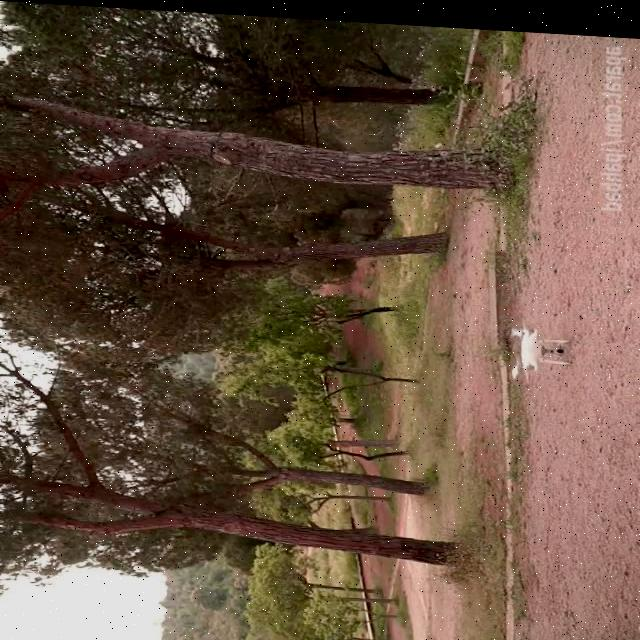drone: (503, 309, 573, 377)
